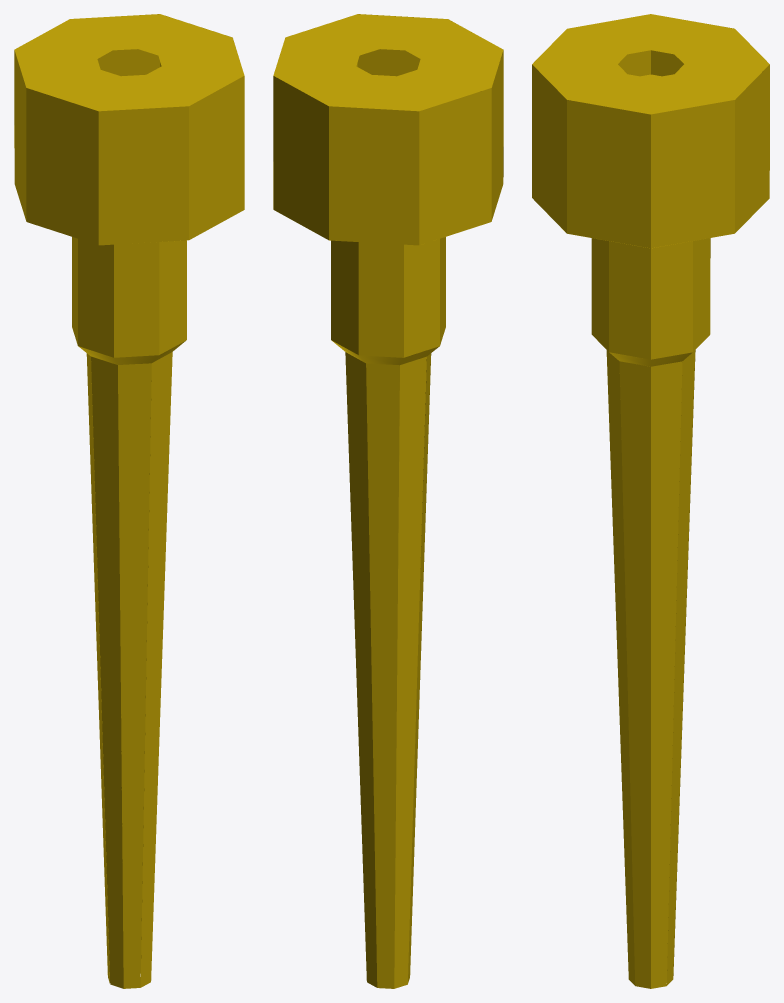
File: original-2.obj
The picture shows the model from 3 angles, left to right: view 1: azimuth 30°, elevation 25°; view 2: azimuth 150°, elevation 25°; view 3: azimuth 270°, elevation 25°; orthographic projection.
Visible parts, largest first — view 1: #ID18; view 2: #ID18; view 3: #ID18.
Boxes of the visible parts, x1=… form: #ID18: x1=14, y1=14, x2=244, y2=988; #ID18: x1=273, y1=14, x2=503, y2=988; #ID18: x1=532, y1=14, x2=769, y2=988.
Size of the model in its own units: 0.3012 by 1.28 by 0.3011.
